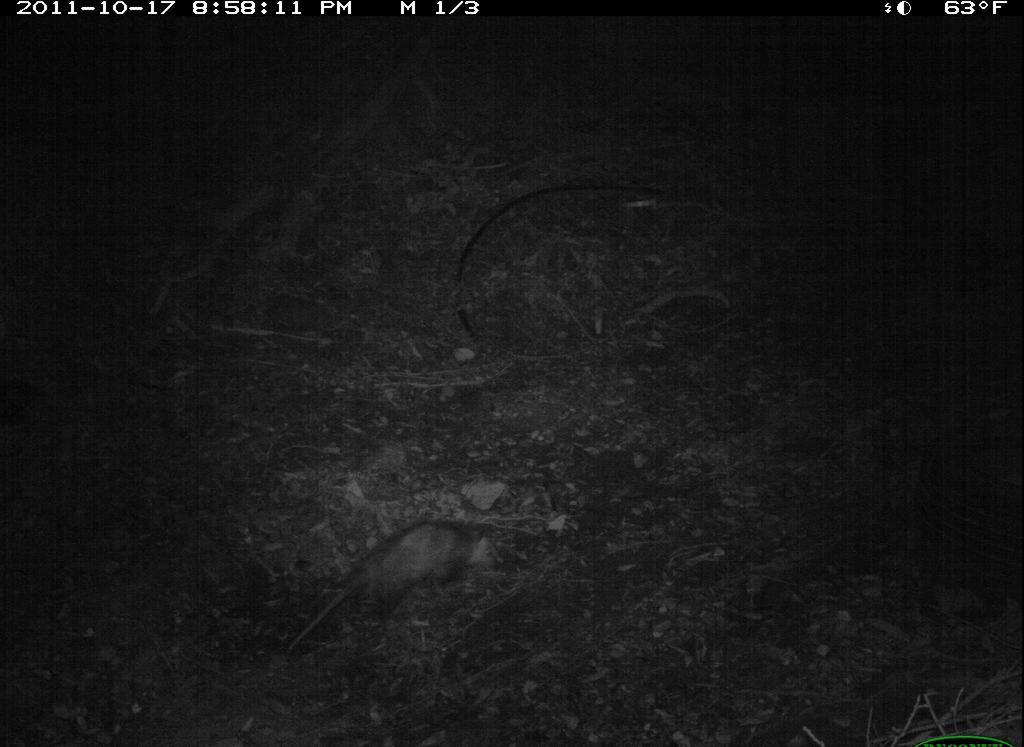opossum: (278, 506, 519, 661)
